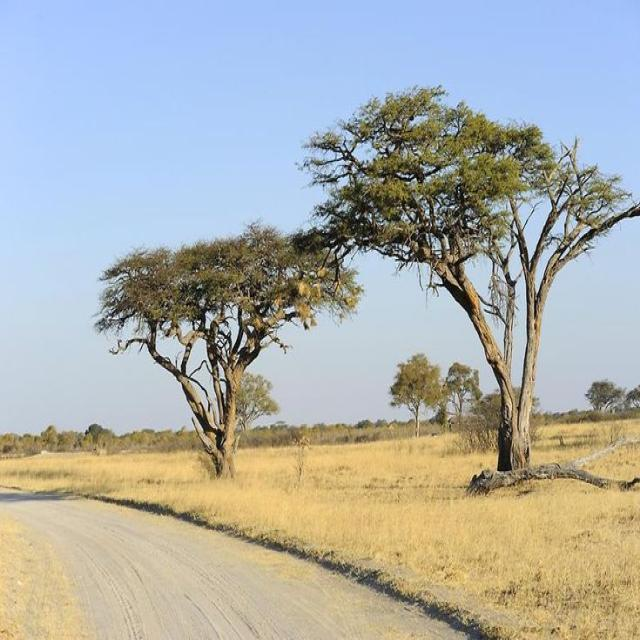Acacia: (321, 110, 615, 461), (93, 233, 321, 450)
